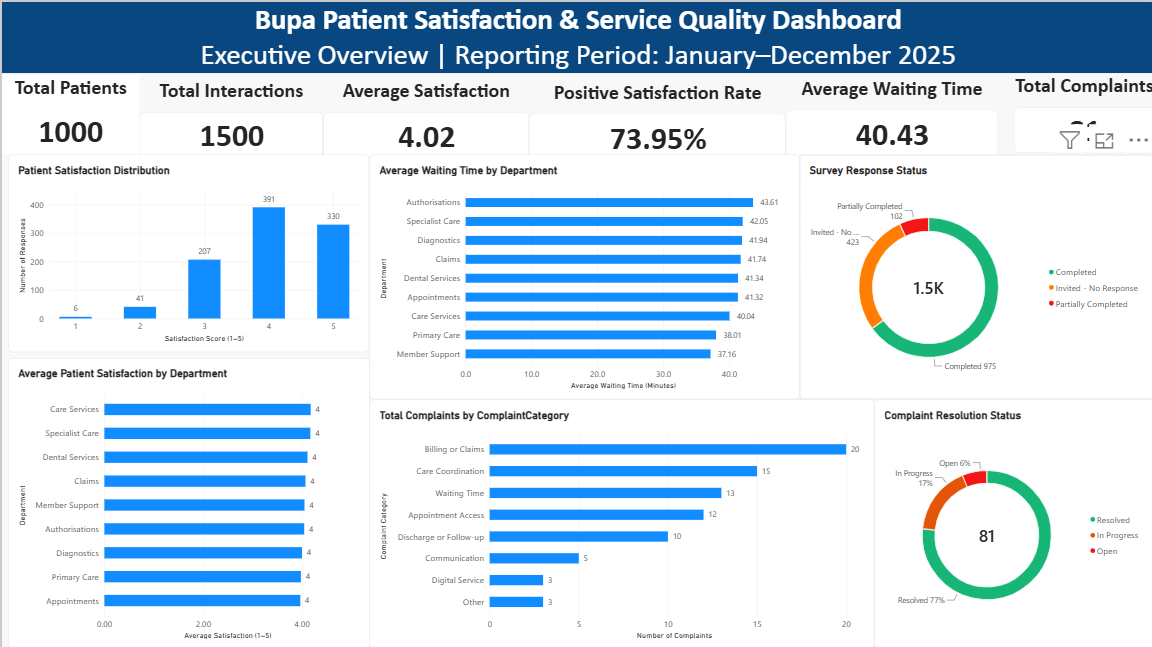

The page's visual inventory and layout, read from the dashboard file:
{"tool":"powerbi","page":{"name":"01 Executive Overview","canvas":[1920,1080],"ordinal":1},"visuals":[{"type":"textbox","box":[0,0,1920.8,118.8],"z":0},{"type":"cardVisual","title":"Total Patients","fields":{"Data":["Measures (2).Total Patients"]},"box":[0,120.8,229.2,133.3],"z":1000},{"type":"cardVisual","title":"Total Interactions","fields":{"Data":["Measures (2).Total Interactions"]},"box":[229.2,127.1,306.2,131.2],"z":2000},{"type":"cardVisual","title":"Average Satisfaction","fields":{"Data":["Measures (2).Average Satisfaction"]},"box":[535.4,127.1,343.8,135.4],"z":3000},{"type":"cardVisual","title":"Positive Satisfaction Rate","fields":{"Data":["Measures (2).Positive Satisfaction Rate"]},"box":[879.2,129.2,427.1,135.4],"z":4000},{"type":"cardVisual","title":"Average Waiting Time","fields":{"Data":["Measures (2).Average Waiting Time"]},"box":[1306.2,122.9,354.2,135.4],"z":5000},{"type":"cardVisual","title":"Total Complaints","fields":{"Data":["Measures (2).Total Complaints"]},"box":[1687.5,118.8,233.3,133.3],"z":6000},{"type":"clusteredColumnChart","title":"Patient Satisfaction Distribution","fields":{"Category":["SurveyResponses Cleaned.SatisfactionScore"],"Y":["CountNonNull(SurveyResponses Cleaned.SurveyID)"]},"box":[10.7,254.3,601.8,329.6],"z":7000},{"type":"clusteredBarChart","title":"\tAverage Patient Satisfaction by Department","fields":{"Category":["ServiceInteractions Cleaned.Department"],"Y":["Measures (2).Average Satisfaction"]},"box":[10.4,593.8,602.1,485.4],"z":8000},{"type":"clusteredBarChart","title":"Average Waiting Time by Department","fields":{"Category":["ServiceInteractions Cleaned.Department"],"Y":["Measures (2).Average Waiting Time"]},"box":[612.5,254.3,716.4,408.4],"z":9000},{"type":"donutChart","title":"\tSurvey Response Status","fields":{"Category":["SurveyResponses Cleaned.SurveyStatus"],"Y":["CountNonNull(SurveyResponses Cleaned.SurveyID)"]},"box":[1329,254,591,408],"z":10000},{"type":"clusteredBarChart","fields":{"Category":["Complaints Cleaned.ComplaintCategory"],"Y":["Measures (2).Total Complaints"]},"box":[612.5,662.5,841.7,416.7],"z":11000},{"type":"donutChart","title":"Complaint Resolution Status","fields":{"Category":["Complaints Cleaned.ResolutionStatus"],"Y":["Measures (2).Total Complaints"]},"box":[1454.2,662.5,466.7,416.7],"z":12000}]}

Visuals, with their boxes in screenshot pixels (x1, y1, x2, y2), scaled from the page's 1920x1080 canvas onto the 1152x647 screenshot:
textbox: x1=0 y1=0 x2=1151 y2=71
"Total Patients" cardVisual: x1=0 y1=72 x2=138 y2=152
"Total Interactions" cardVisual: x1=138 y1=76 x2=321 y2=155
"Average Satisfaction" cardVisual: x1=321 y1=76 x2=528 y2=157
"Positive Satisfaction Rate" cardVisual: x1=528 y1=77 x2=784 y2=159
"Average Waiting Time" cardVisual: x1=784 y1=74 x2=996 y2=155
"Total Complaints" cardVisual: x1=1012 y1=71 x2=1151 y2=151
"Patient Satisfaction Distribution" clusteredColumnChart: x1=6 y1=152 x2=368 y2=350
"	Average Patient Satisfaction by Department" clusteredBarChart: x1=6 y1=356 x2=368 y2=646
"Average Waiting Time by Department" clusteredBarChart: x1=368 y1=152 x2=797 y2=397
"	Survey Response Status" donutChart: x1=797 y1=152 x2=1151 y2=397
clusteredBarChart - Complaints Cleaned.ComplaintCategory x Measures (2).Total Complaints: x1=368 y1=397 x2=873 y2=646
"Complaint Resolution Status" donutChart: x1=873 y1=397 x2=1151 y2=646
